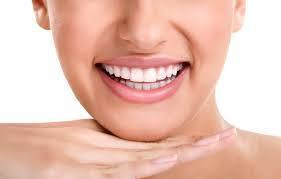normal: (142, 67, 160, 83), (129, 67, 144, 83), (156, 65, 168, 80), (120, 65, 131, 80), (165, 63, 174, 78), (142, 82, 153, 91), (134, 82, 145, 91), (113, 66, 121, 78), (177, 63, 185, 72), (125, 81, 135, 88), (174, 63, 179, 76), (154, 83, 162, 90), (107, 66, 113, 75), (103, 64, 108, 73), (159, 81, 167, 86), (119, 79, 124, 85), (166, 80, 172, 84)
